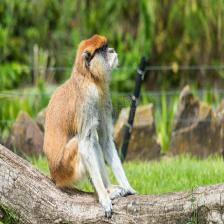monkey: (44, 33, 128, 218)
